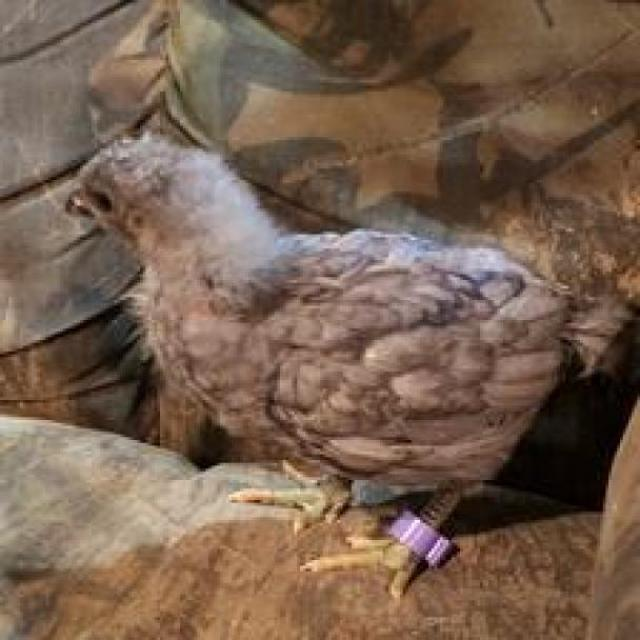Chicken: (59, 90, 635, 595)
